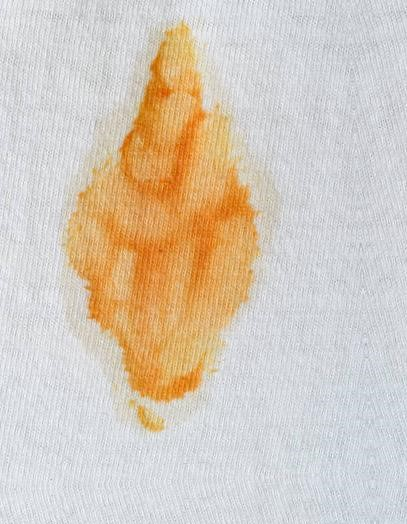stain: (64, 22, 269, 428)
